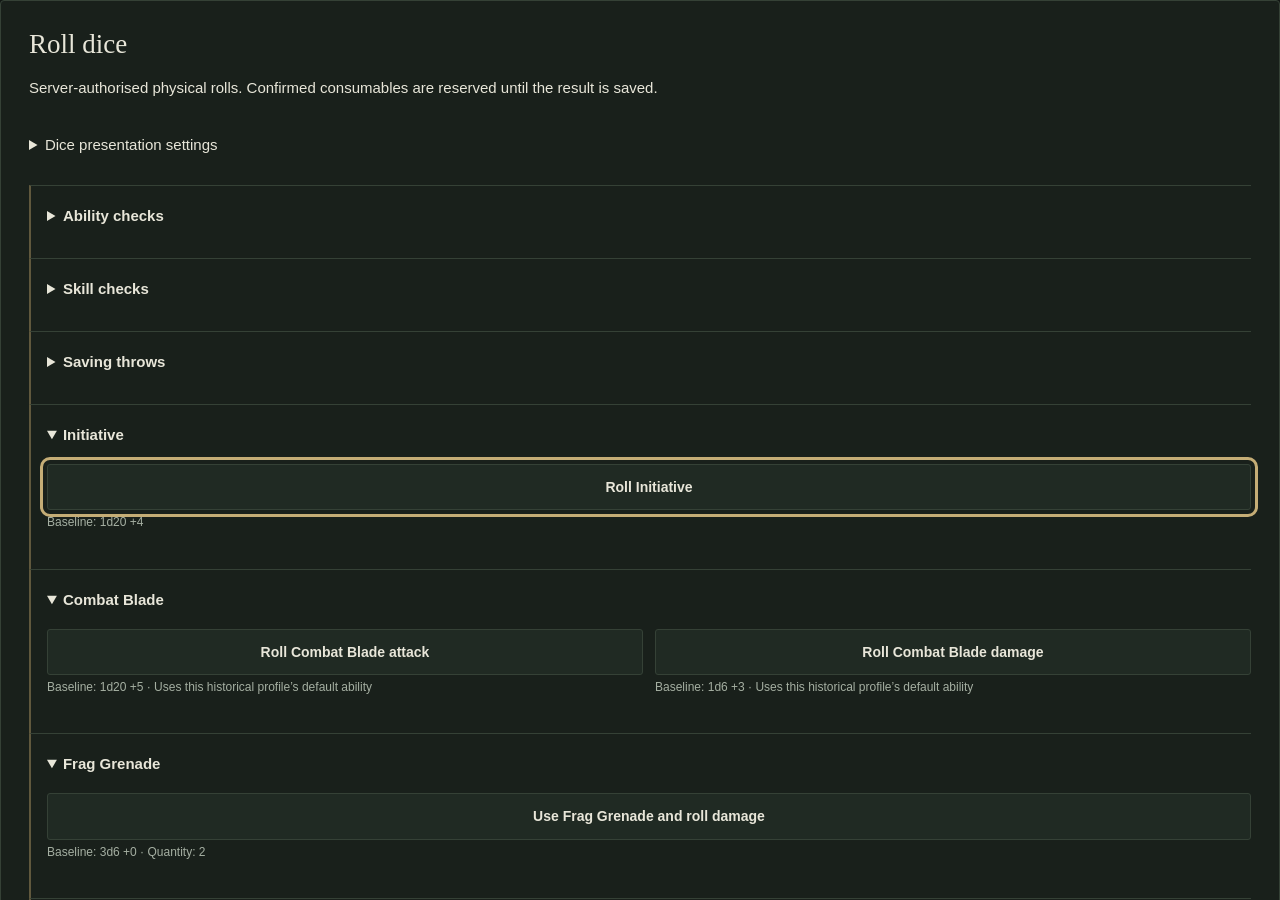
Test: native button handles keyboard-generated activation and supplies live result text
Click the button "Roll Initiative": (649, 487) [47,464,1251,510]
(page scrolled)
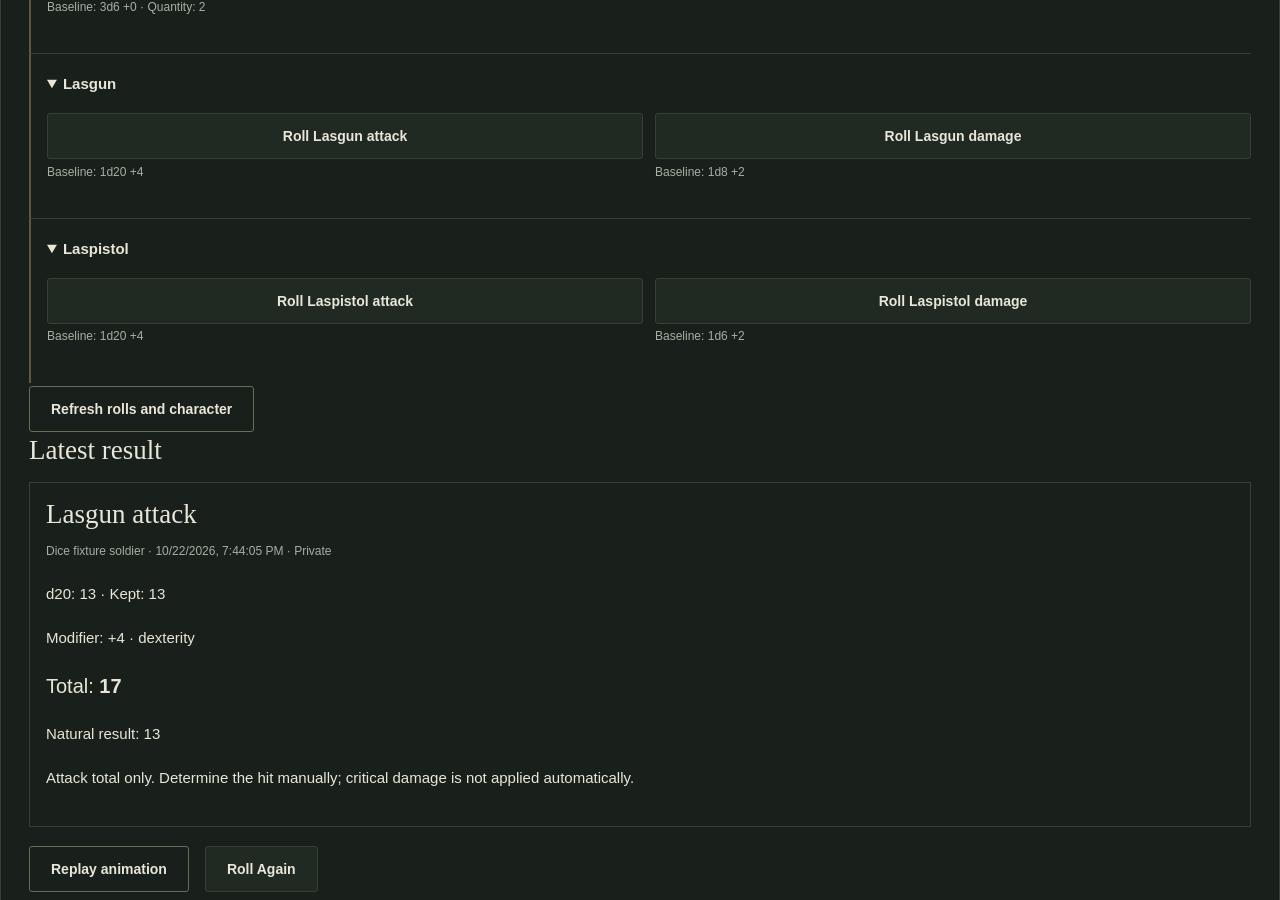
Check: the heading "Latest result" is shown, box [29,435,162,465]
